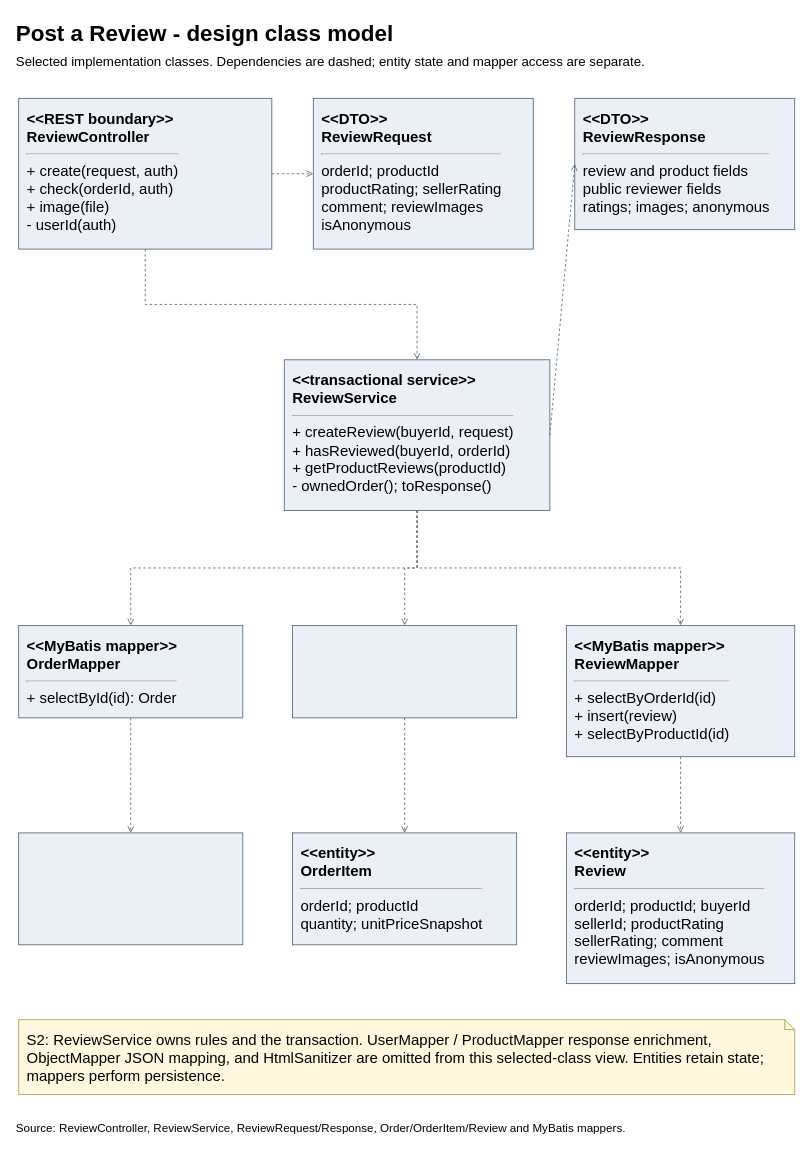
The diagram is 809 pixels wide and 1150 high, and some of its shapes have lost their labels. The centre of each missing label's shape, as x and y in pixels:
<<entity>> Order id; buyerId; sellerId status: String: the point at 130,888
<<MyBatis mapper>> OrderItemMapper + selectByOrderId(id): the point at 404,671
